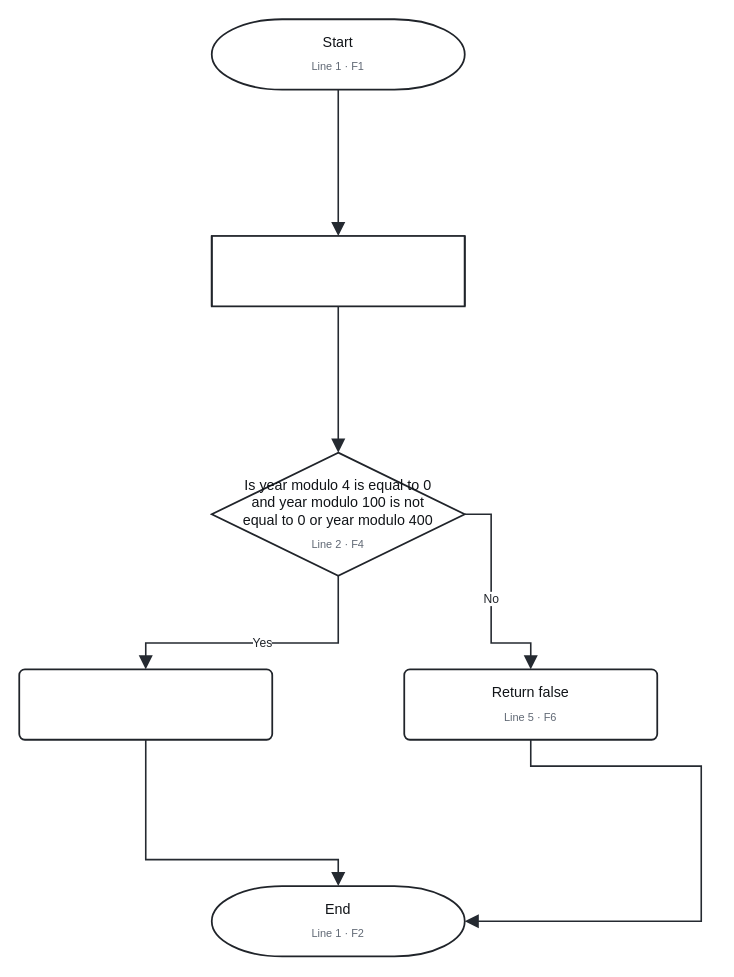
Some shapes in this 734 by 977 pixel diagram are drawn without their labels. The centre of each missing label's shape, as x and y in pixels:
"Return true Line 3 · F5" belongs at point 145,704.
"Run function IsLeapYear with year Line 1 · F3" belongs at point 337,271.
